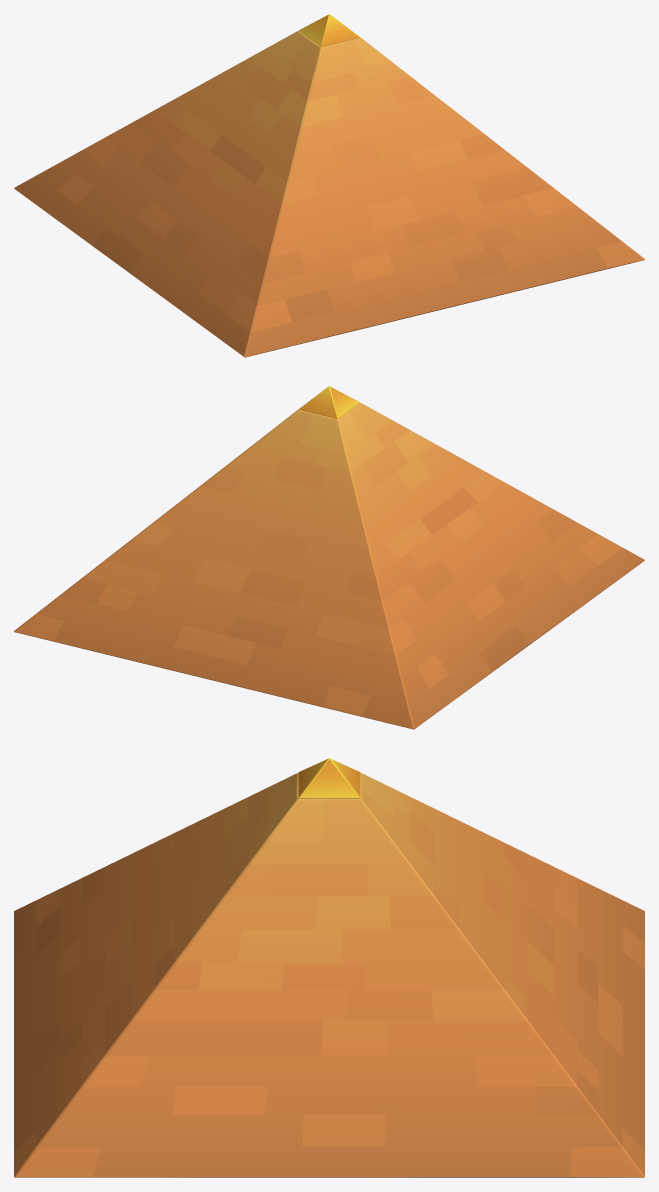
Rendered from largepyramid.glb.
3 views of the same model, one above another, from view 1: azimuth 30°, elevation 25°; view 2: azimuth 150°, elevation 25°; view 3: azimuth 270°, elevation 25° (orthographic). The views are drawn at different scales.
Parts seen in each view (by area): view 1: pyramid_large; view 2: pyramid_large; view 3: pyramid_large.
Boxes of the visible parts, x1,y1,x2,y2 form: pyramid_large: (14, 14, 644, 357); pyramid_large: (14, 386, 644, 729); pyramid_large: (14, 758, 644, 1177).
Size of the model in its own units: 19.93 by 9.97 by 19.93.
Materials: 1 (1 with a texture image).
